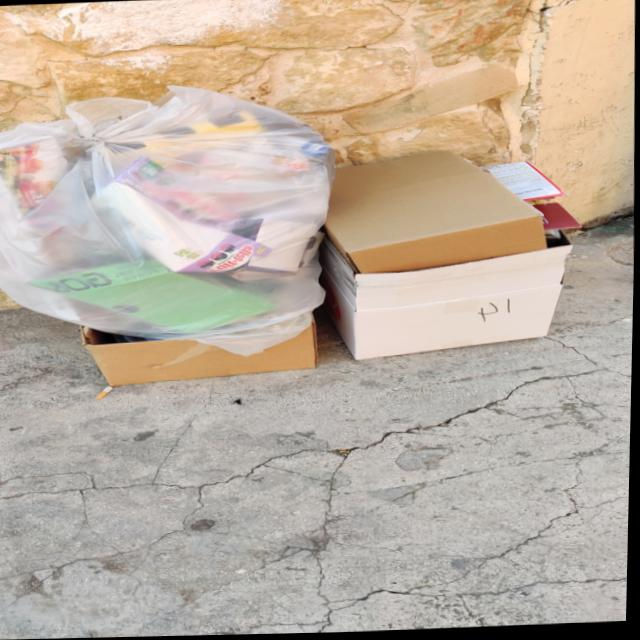Others Waste: (76, 145, 590, 392)
Recyclable Material -Grey Bags-: (0, 83, 334, 358)
